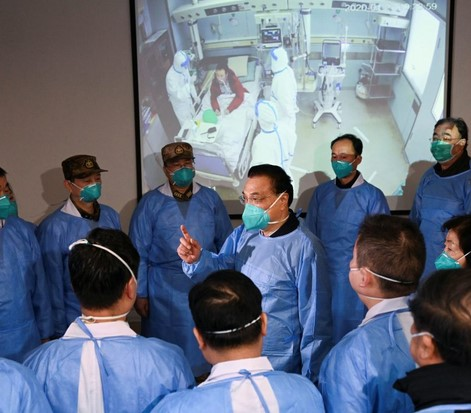face_with_mask: (347, 212, 423, 304), (406, 277, 471, 364), (239, 165, 294, 236), (60, 152, 106, 210), (431, 212, 468, 273), (429, 115, 467, 171), (158, 142, 200, 191), (327, 132, 364, 184), (438, 217, 466, 274), (0, 171, 17, 222)
